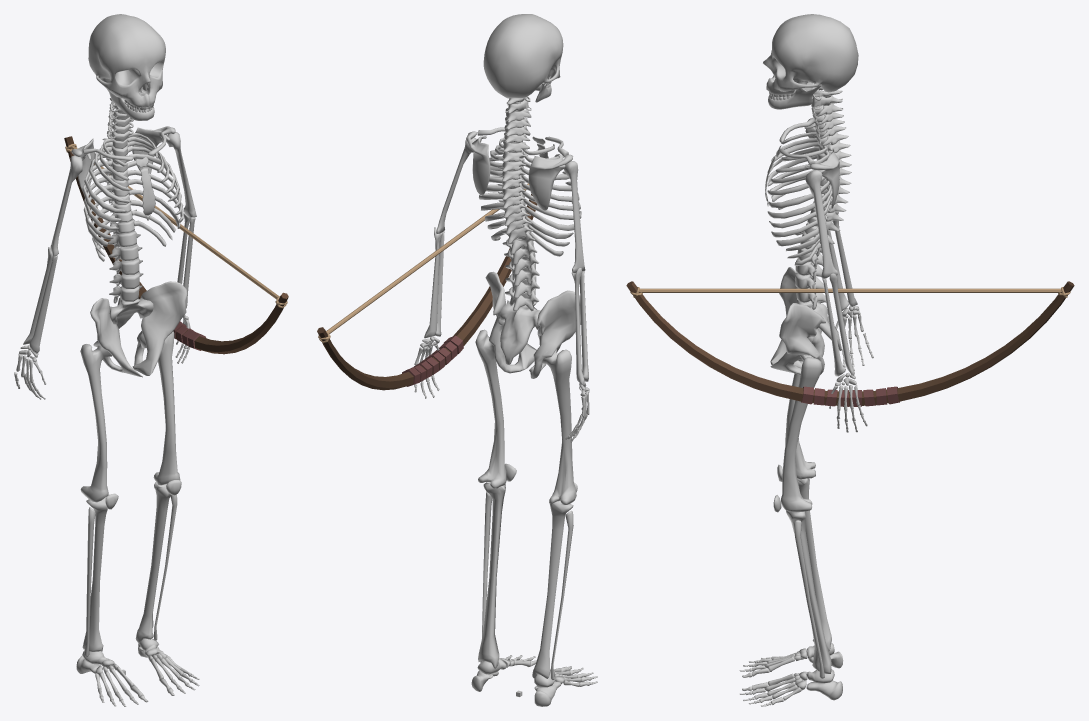
Rendered from skelton3.fbx.
3 renders of one model, left to right at view 1: azimuth 30°, elevation 25°; view 2: azimuth 150°, elevation 25°; view 3: azimuth 270°, elevation 25°, orthographic. The views are drawn at different scales.
Visible parts, largest first — view 1: SimpleSkeleton, Bow; view 2: SimpleSkeleton, Bow; view 3: SimpleSkeleton, Bow.
Part boxes in pixels (x1,y1,x2,y2): SimpleSkeleton: (14,14,199,706); Bow: (64,136,288,354); SimpleSkeleton: (414,14,597,706); Bow: (317,183,537,390); SimpleSkeleton: (739,14,873,706); Bow: (626,281,1074,406).
Bounding box in the file's own units: 44.6 × 101 × 166.
